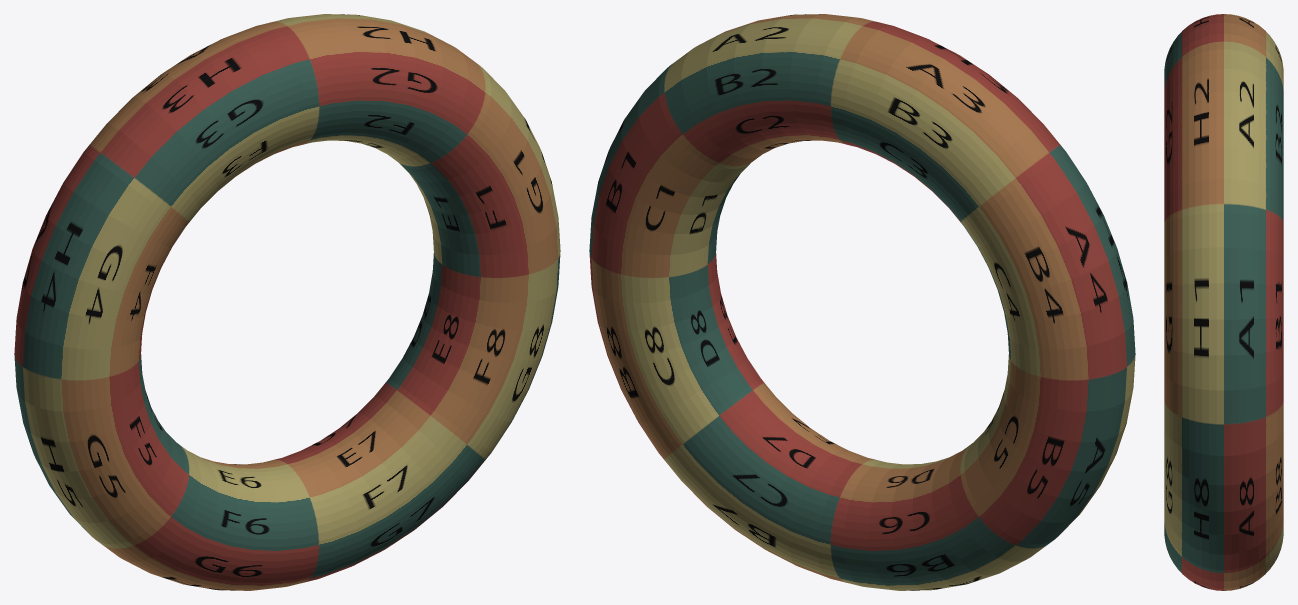
File: texture_torus_R24_r18.glb
The picture shows the model from 3 angles, left to right: view 1: azimuth 30°, elevation 25°; view 2: azimuth 150°, elevation 25°; view 3: azimuth 270°, elevation 25°; orthographic projection. The views are drawn at different scales.
Parts seen in each view (by area): view 1: world; view 2: world; view 3: world.
Boxes of the visible parts, x1=… form: world: x1=14, y1=14, x2=560, y2=590; world: x1=589, y1=14, x2=1135, y2=590; world: x1=1164, y1=14, x2=1283, y2=590.
Size of the model in its own units: 32.8 by 32.74 by 6.79.
1 material, 1 textured.
